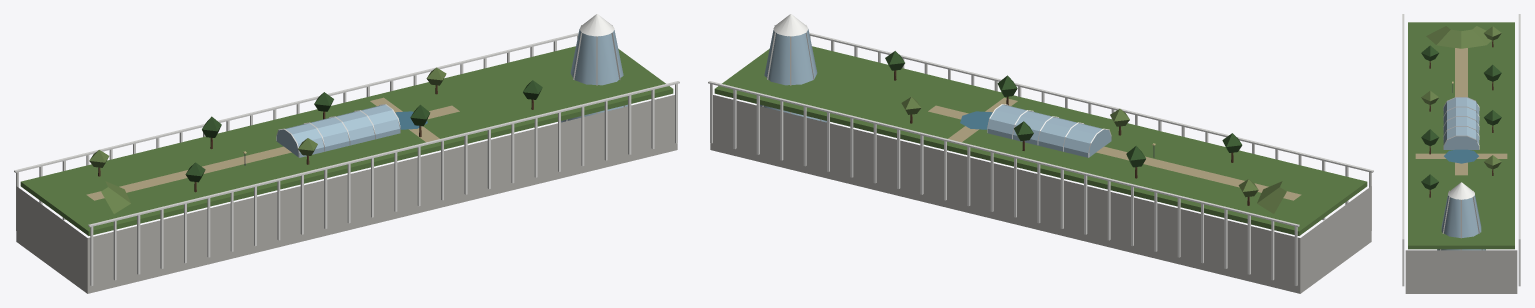
The model's file is mobile.glb.
The picture shows the model from 3 angles, left to right: view 1: azimuth 30°, elevation 25°; view 2: azimuth 150°, elevation 25°; view 3: azimuth 270°, elevation 25°; orthographic projection. The views are drawn at different scales.
Parts seen in each view (by area): view 1: lm.transit-center-park; view 2: lm.transit-center-park; view 3: lm.transit-center-park.
Boxes of the visible parts, x1,y1,x2,y2 form: lm.transit-center-park: (14, 14, 679, 293); lm.transit-center-park: (708, 14, 1373, 293); lm.transit-center-park: (1402, 14, 1520, 293).
Bounding box in the file's own units: 210 × 41.04 × 46.7.
